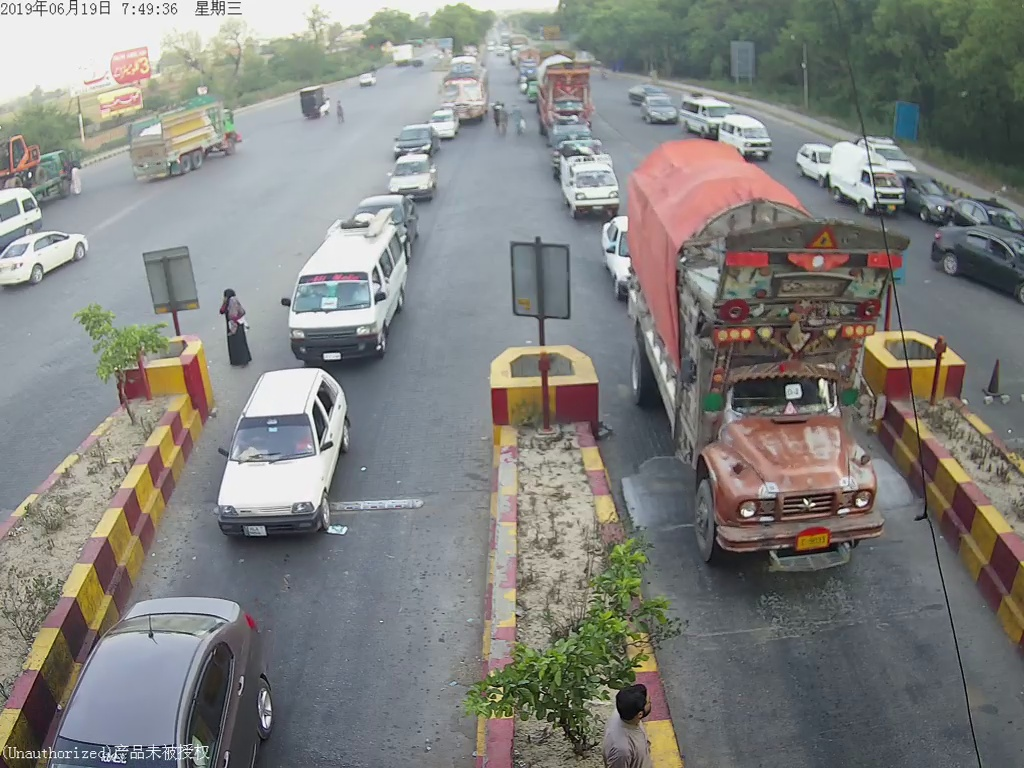Cat-1: (214, 368, 347, 540), (553, 145, 621, 219), (596, 217, 639, 299)
Cat-2: (290, 206, 408, 367)
Cat-4: (626, 139, 897, 568)
